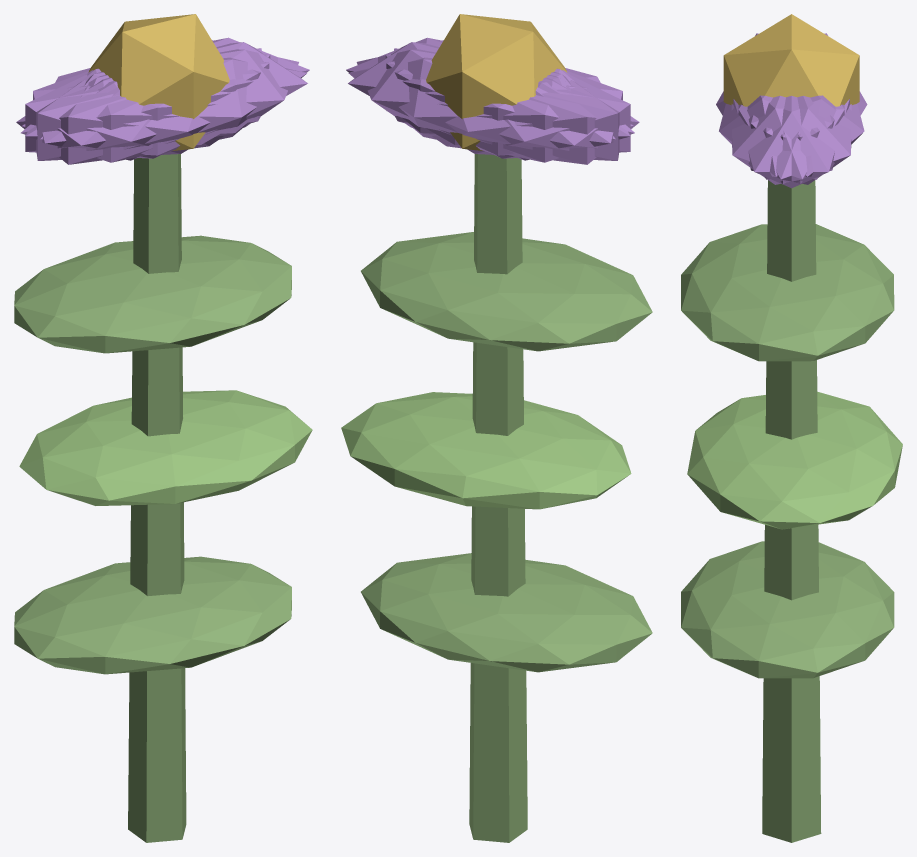
Rendered from barringtonia-acutangula.glb.
3 views of the same model, side by side, from view 1: azimuth 30°, elevation 25°; view 2: azimuth 150°, elevation 25°; view 3: azimuth 270°, elevation 25° (orthographic).
Visible parts, largest first — view 1: stem, leaf2, leaf0, leaf1, center, petal1, petal6, petal2, petal5, petal7, petal0, petal4 (+2 smaller); view 2: stem, leaf2, leaf1, leaf0, center, petal8, petal3, petal7, petal4, petal2, petal0, petal5 (+2 smaller); view 3: stem, leaf1, leaf2, leaf0, center, petal0, petal4, petal5, petal8, petal1.
Boxes of the visible parts, x1,y1,x2,y2 form: stem: [128, 154, 186, 842]; leaf2: [14, 235, 291, 353]; leaf0: [14, 556, 291, 674]; leaf1: [19, 390, 312, 505]; center: [88, 14, 229, 150]; petal1: [21, 57, 306, 162]; petal6: [16, 70, 223, 164]; petal2: [36, 48, 261, 160]; petal5: [40, 49, 298, 155]; petal7: [25, 54, 270, 158]; petal0: [88, 42, 307, 145]; petal4: [22, 37, 309, 136]; stem: [469, 154, 527, 842]; leaf2: [361, 232, 652, 351]; leaf1: [341, 392, 631, 509]; leaf0: [361, 553, 652, 672]; center: [426, 14, 567, 150]; petal8: [348, 57, 634, 162]; petal3: [432, 70, 639, 164]; petal7: [394, 48, 619, 160]; petal4: [356, 49, 615, 155]; petal2: [385, 54, 630, 158]; petal0: [348, 42, 567, 145]; petal5: [346, 37, 633, 136]; stem: [762, 180, 821, 842]; leaf1: [687, 391, 902, 529]; leaf2: [681, 224, 894, 361]; leaf0: [681, 541, 894, 678]; center: [723, 14, 859, 106]; petal0: [733, 95, 849, 188]; petal4: [738, 95, 851, 184]; petal5: [731, 96, 844, 184]; petal8: [748, 95, 864, 176]; petal1: [719, 95, 834, 176].
Size of the model in its own units: 0.1464 by 0.3974 by 0.1002.
